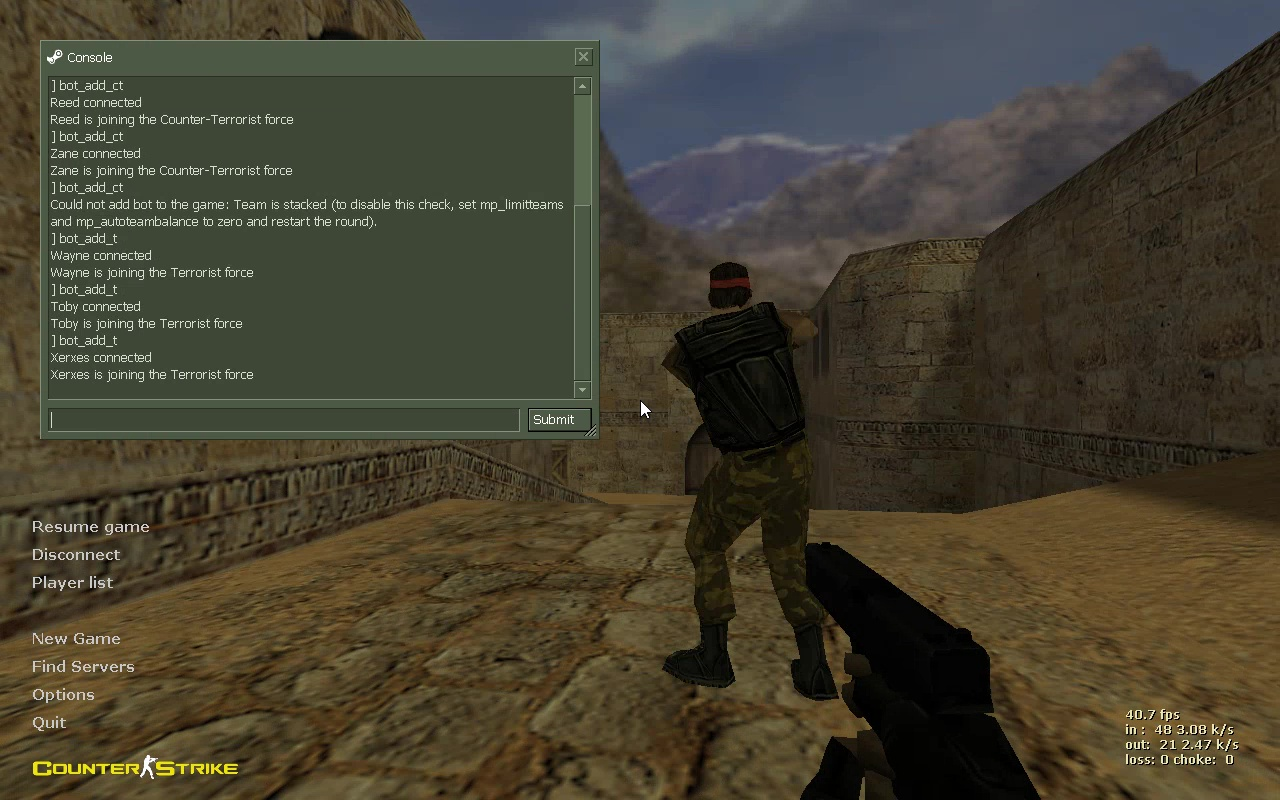terr1: (651, 265, 842, 697)
